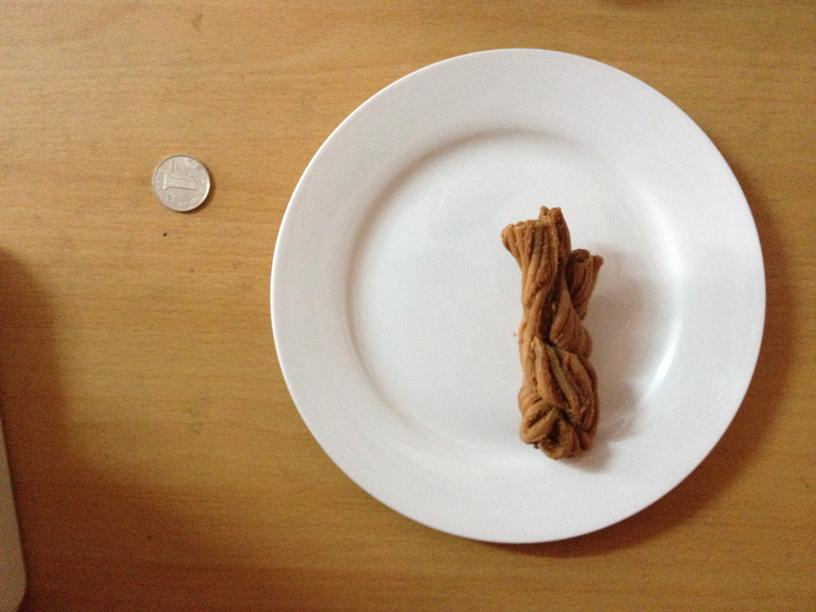coin: (151, 151, 210, 213)
fired_dough_twist: (499, 207, 602, 461)
